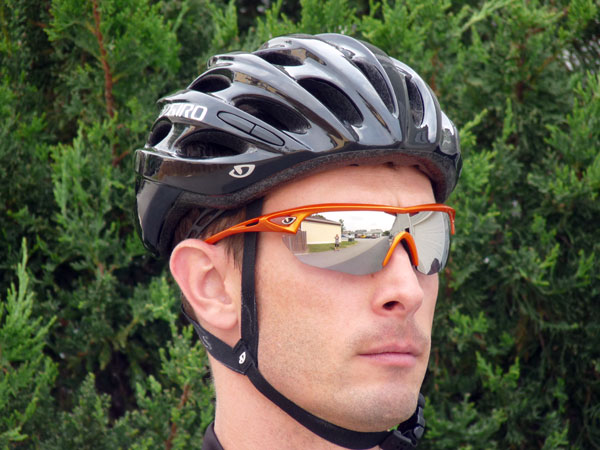helmet: (126, 29, 471, 192)
